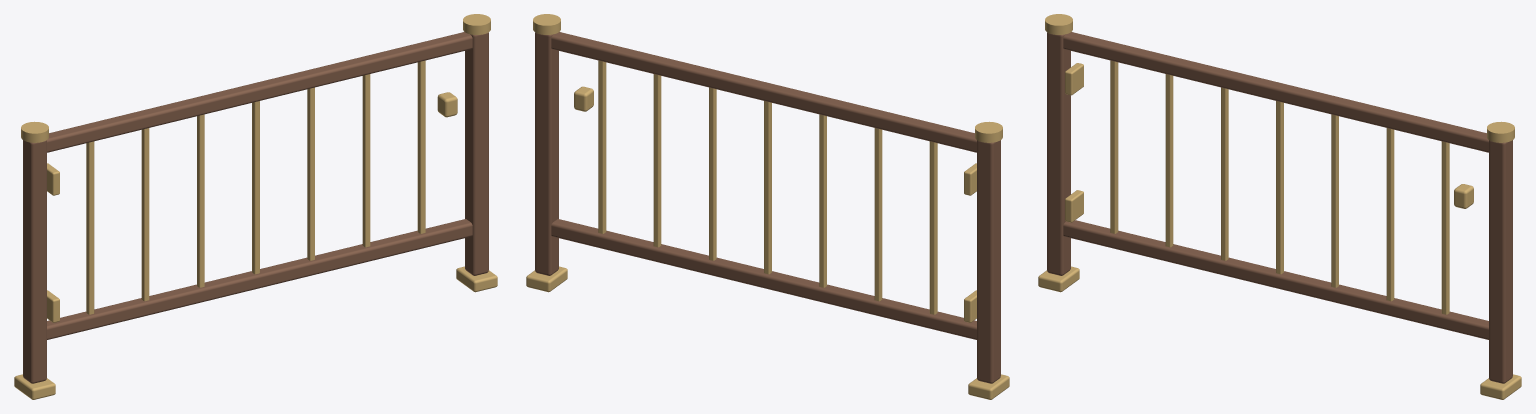
The model's file is griffin-airmail-roost-and-posthouse-railing-gate-005298a2__30499.glb.
The picture shows the model from 3 angles, left to right: view 1: azimuth 30°, elevation 25°; view 2: azimuth 150°, elevation 25°; view 3: azimuth 330°, elevation 25°; orthographic projection.
Visible parts, largest first — view 1: railing-gate; view 2: railing-gate; view 3: railing-gate.
Part boxes in pixels (left/top/right/bottom): railing-gate: left=14, top=14, right=497, bottom=399; railing-gate: left=526, top=14, right=1009, bottom=399; railing-gate: left=1038, top=14, right=1521, bottom=399.
Bounding box in the file's own units: 2.11 × 1.14 × 0.1499.
